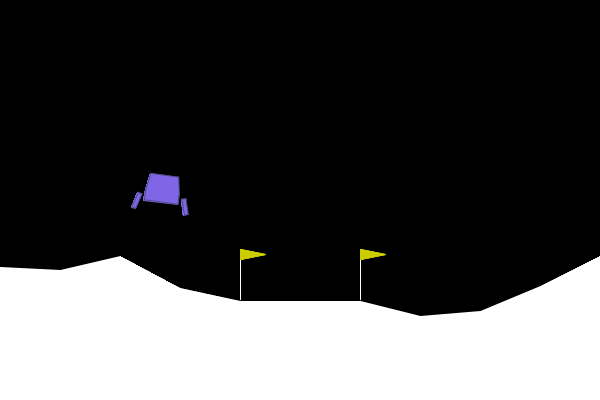lander: (130, 170, 194, 217)
